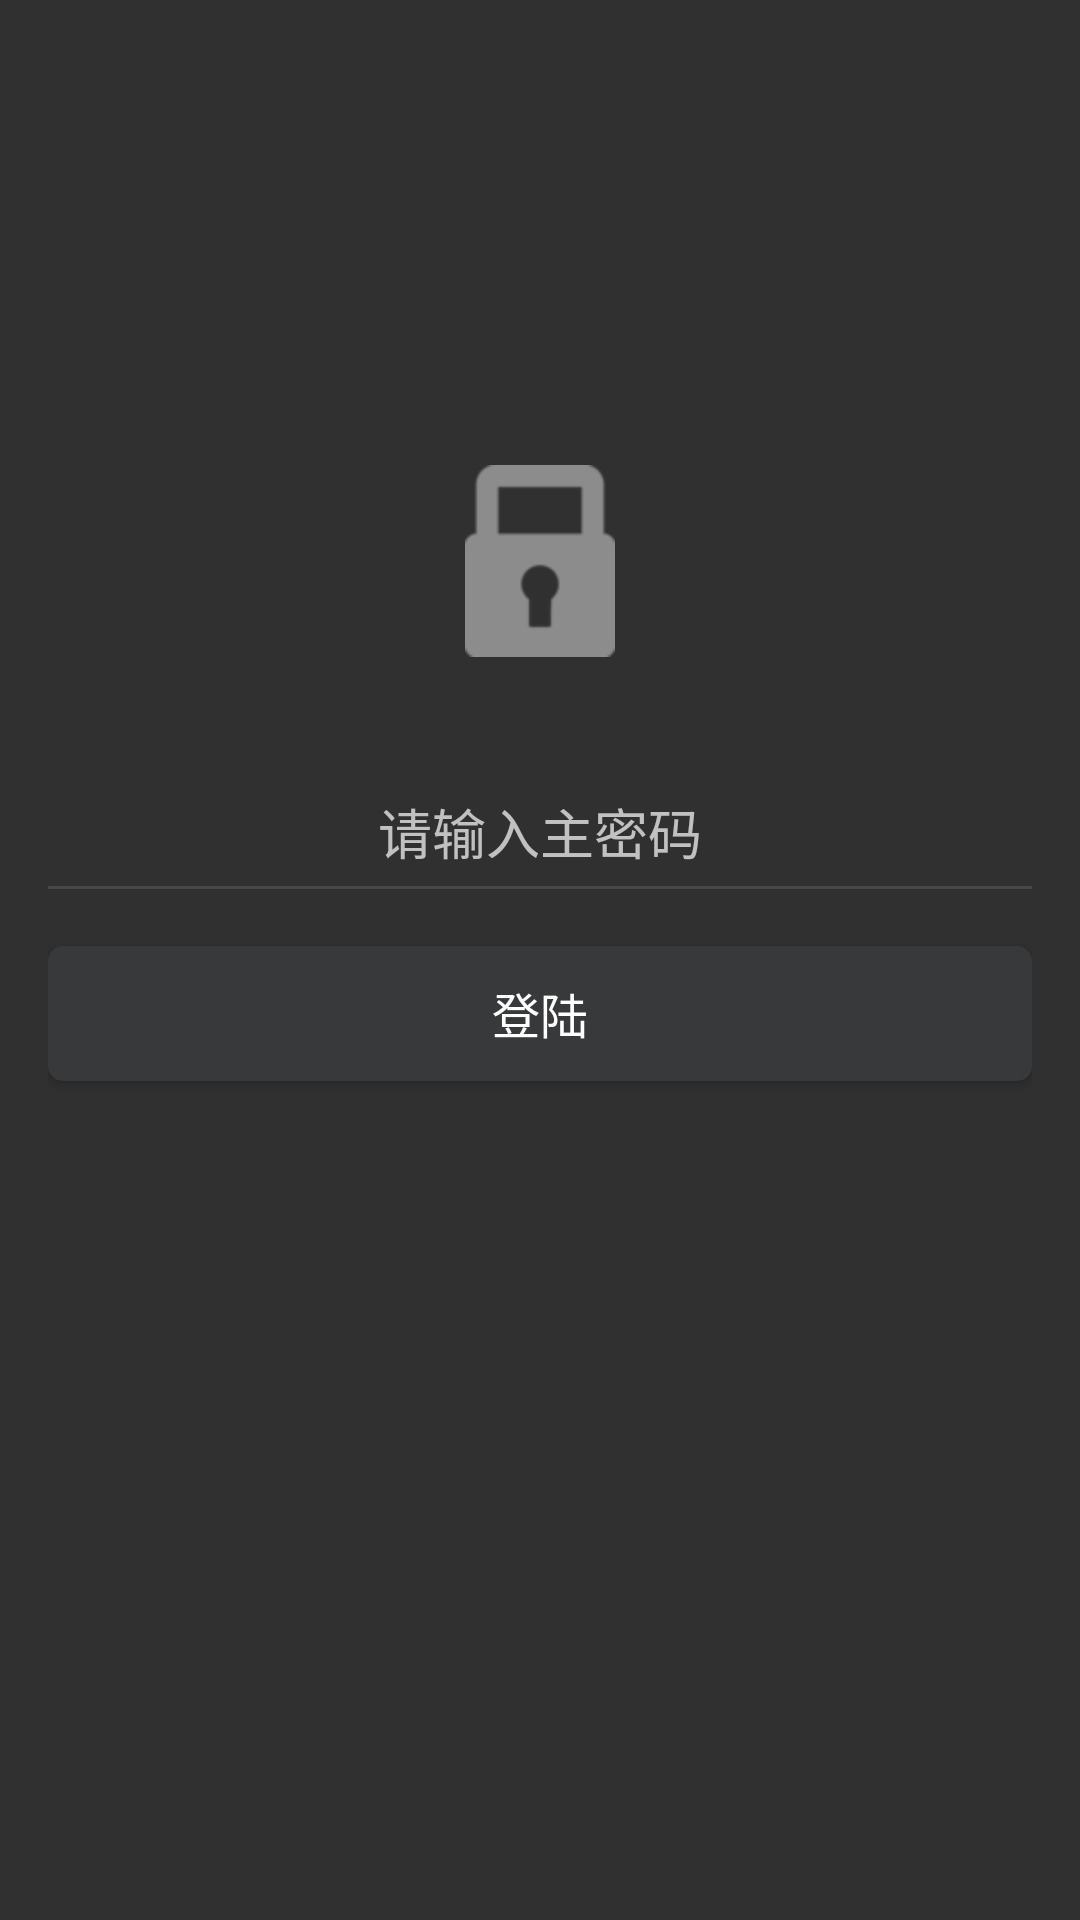

Where to tap for icons on this 1080x1920 app screen, as (x,y):
lock: (540,561)
